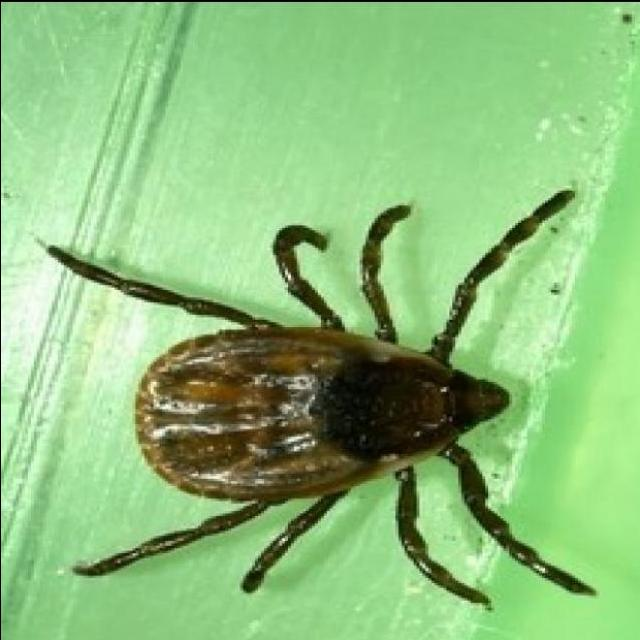Rhipicephalus Sanguineus-F: (45, 189, 598, 608)
